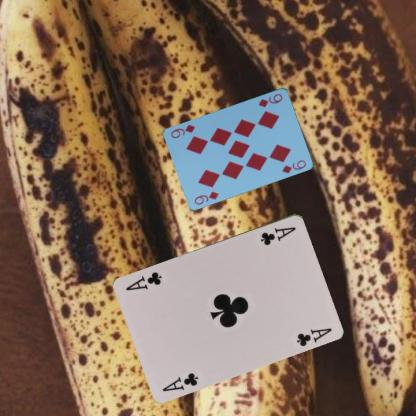9d: (192, 188, 220, 206), (256, 91, 284, 108)
Ac: (159, 370, 200, 392), (258, 224, 298, 246)
